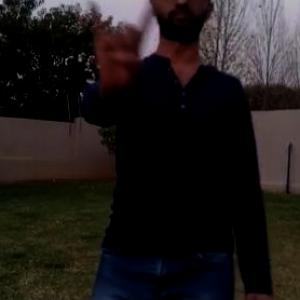takeoff-hand: (88, 0, 165, 106)
